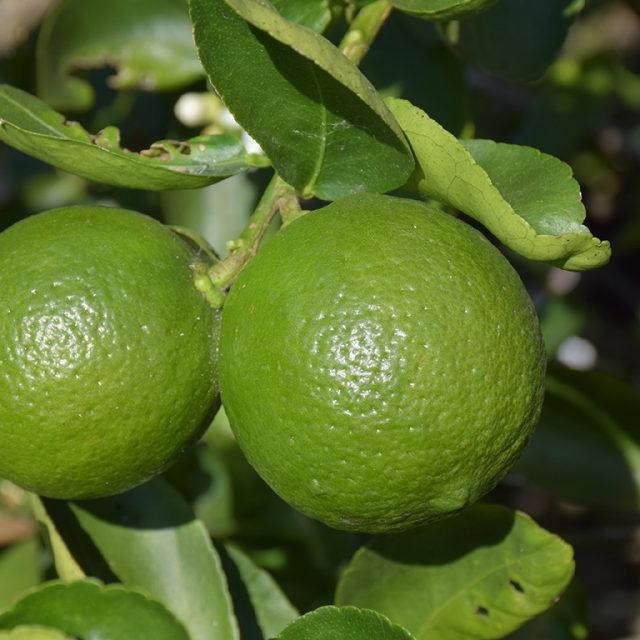lime: (208, 184, 556, 542), (0, 188, 232, 509)
